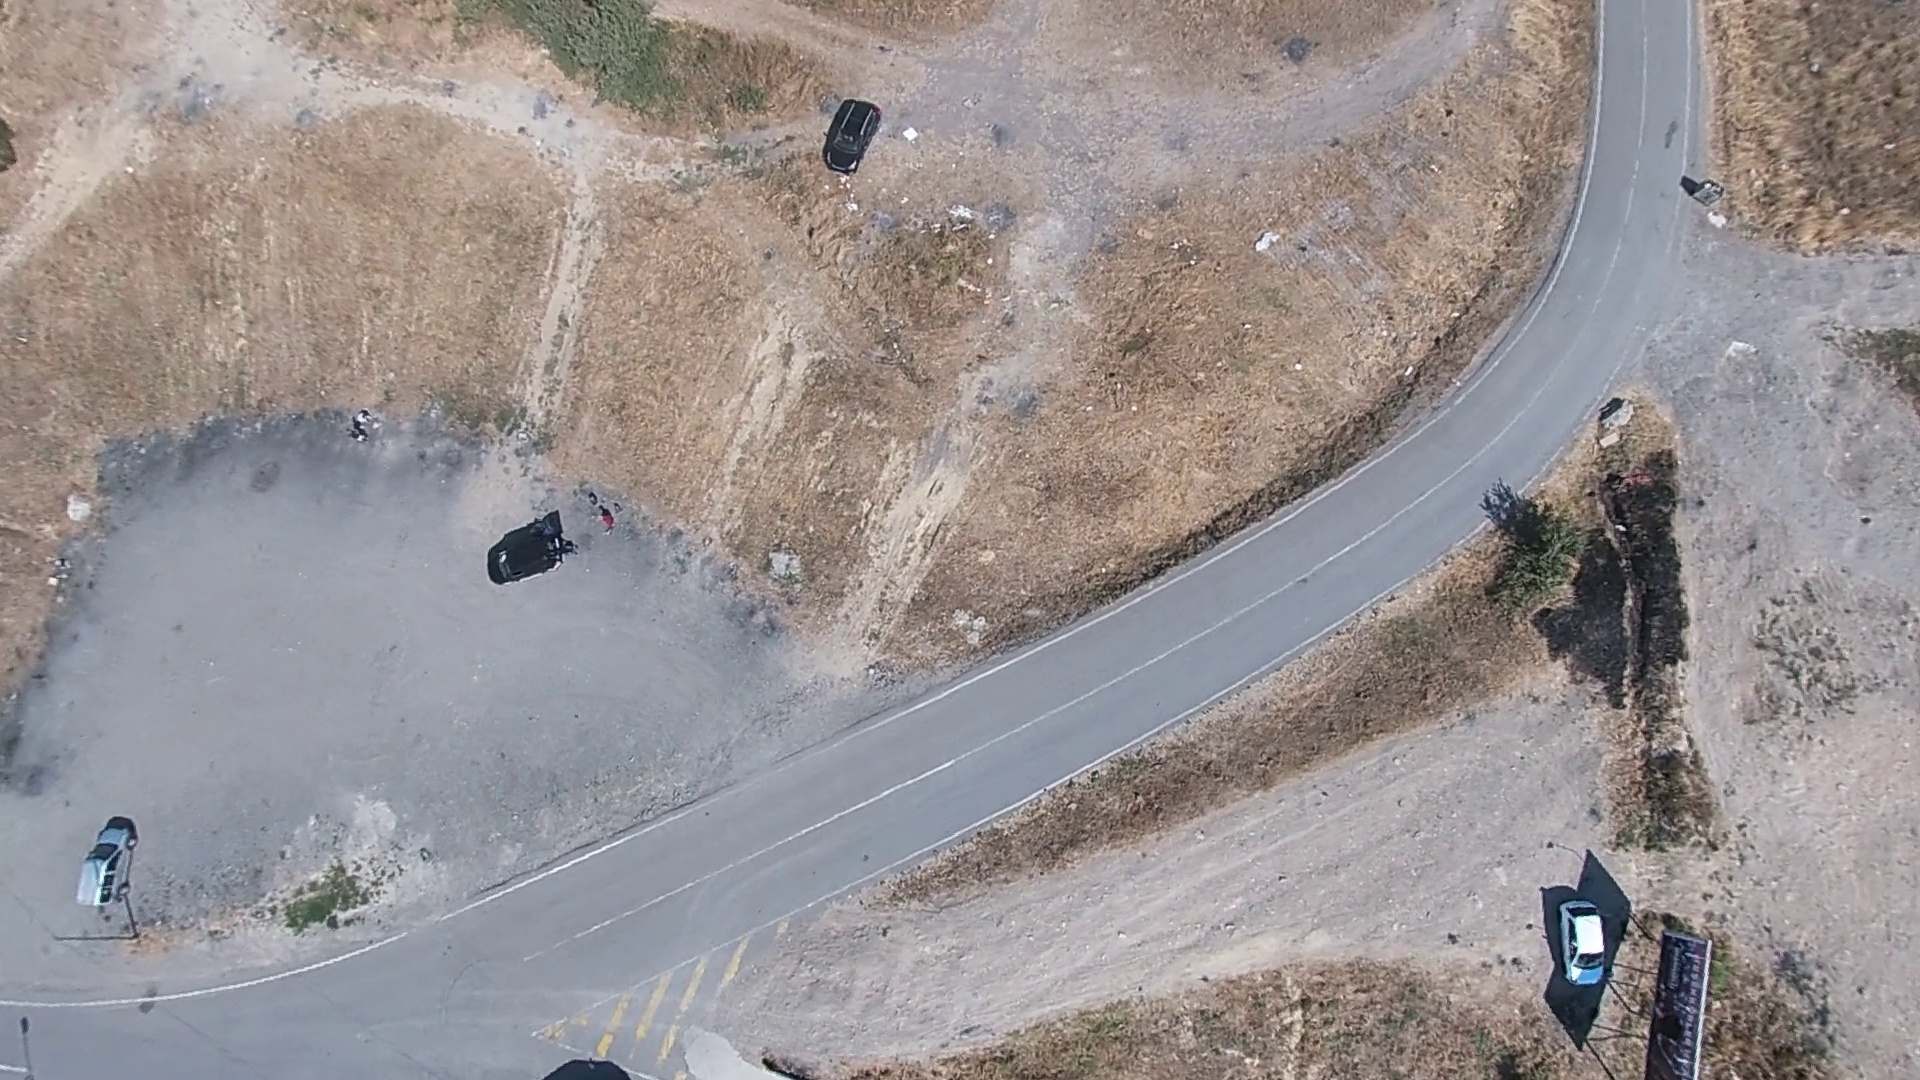araba: (72, 808, 144, 911), (1556, 899, 1615, 989), (480, 529, 557, 586), (824, 95, 878, 173)
insan: (345, 402, 375, 441), (597, 506, 616, 540)
